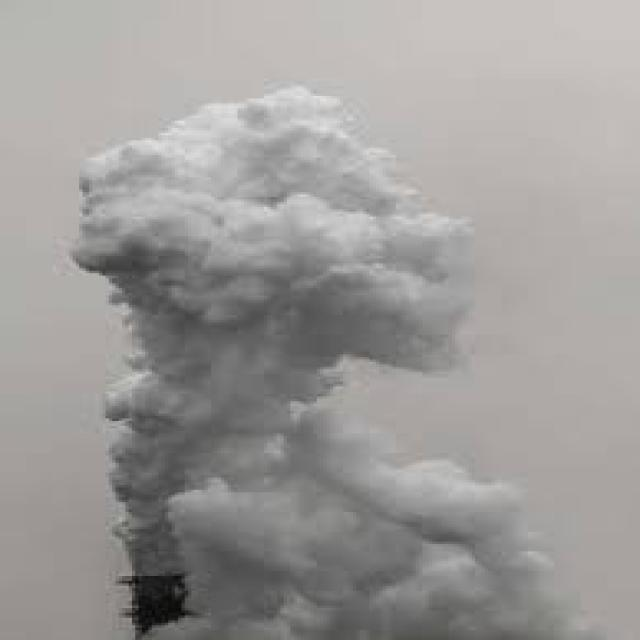Smoke: (69, 79, 574, 640)
